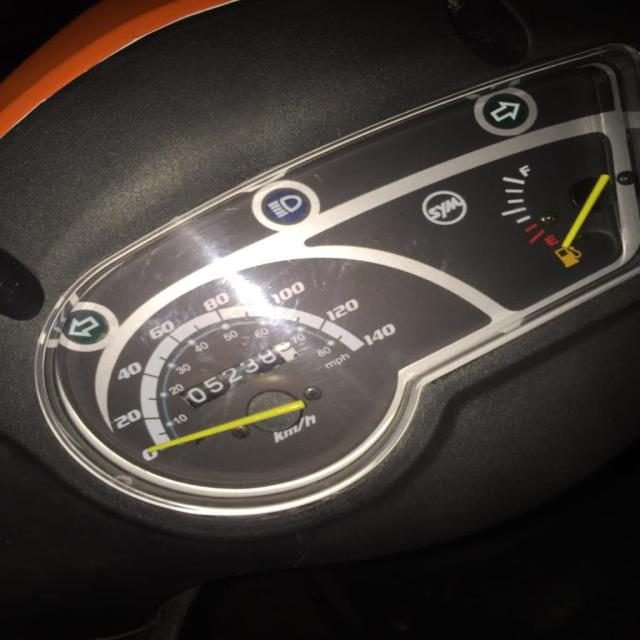odometer: (175, 338, 305, 411)
